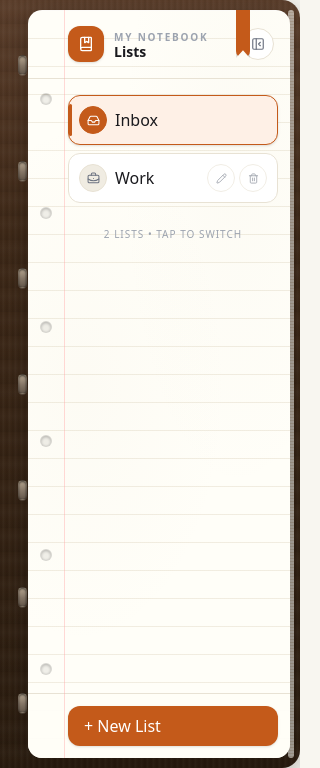
Sidebar rename async contract › leaves edit mode when renameList resolves true
Click the button named "Rename Work" at x=221, y=178, box [207,164,235,192]
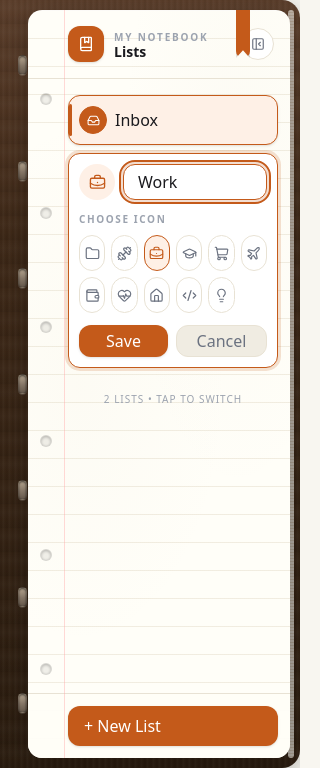
Replace the text in the field with "Design" at x=195, y=182, box [123,164,267,200]
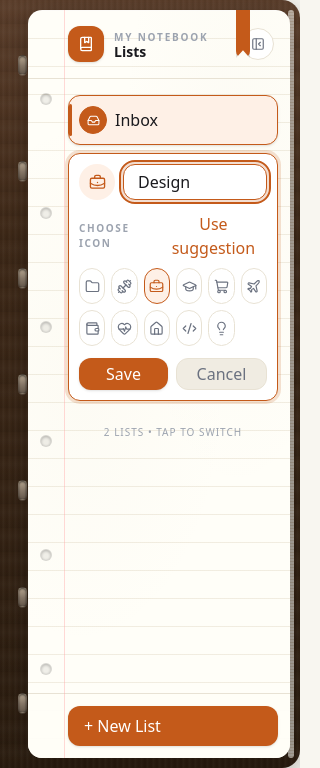
Click the button "Save" at x=124, y=374, box [79,358,168,390]
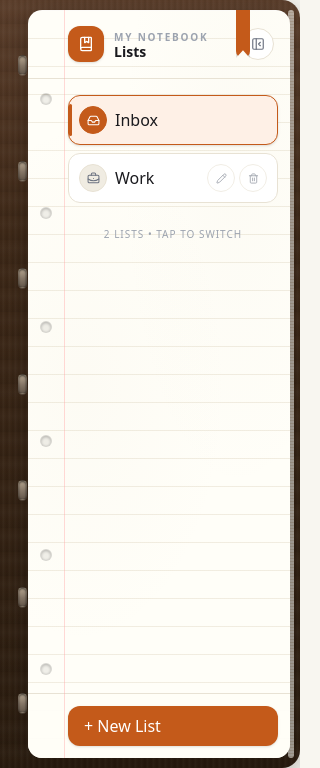
Check: the field is gone
